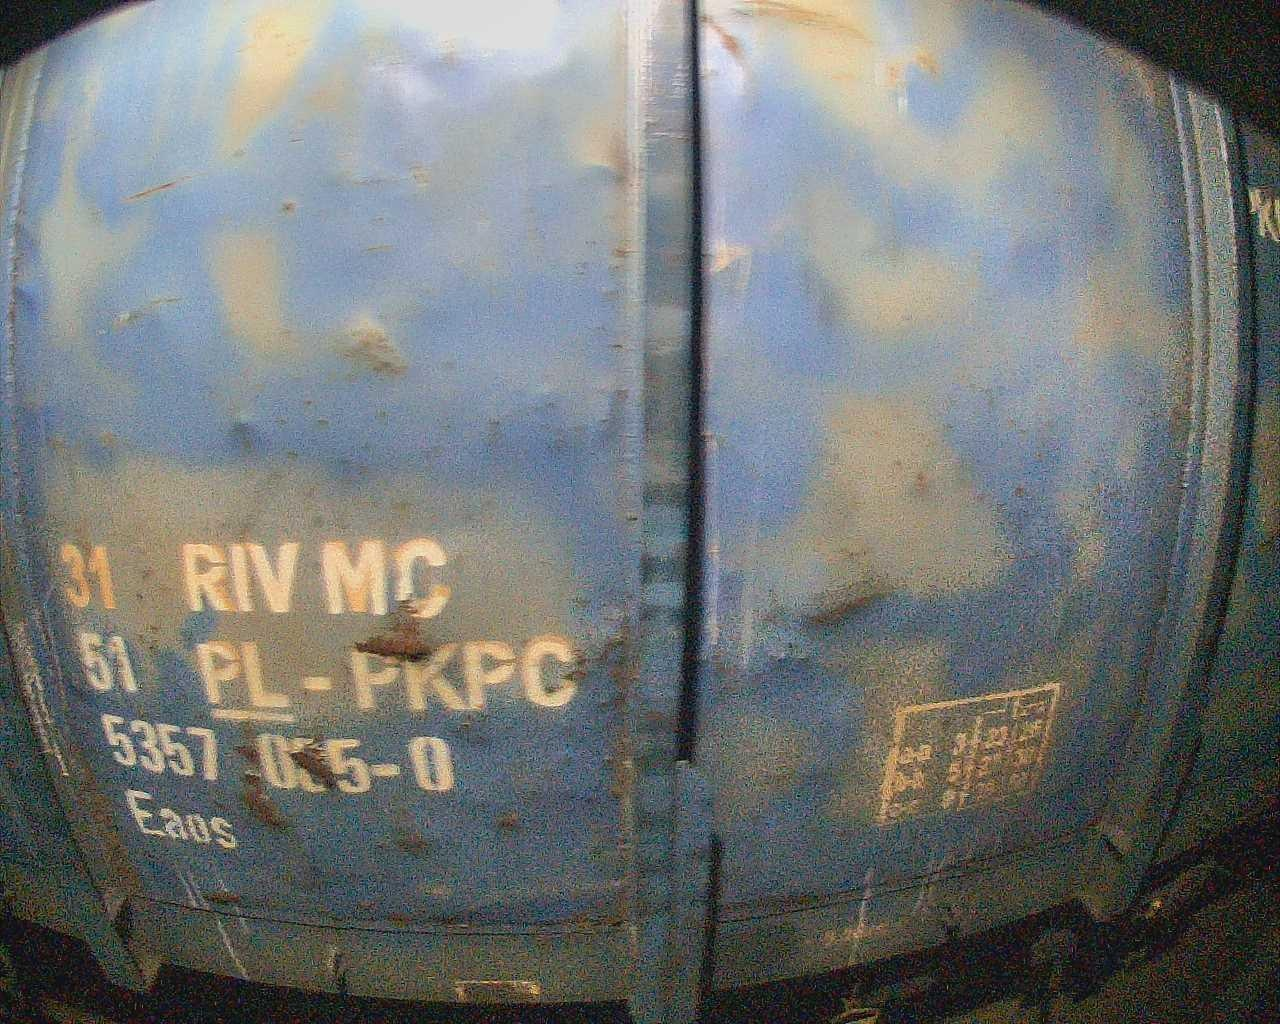UIC: (51, 527, 591, 860)
